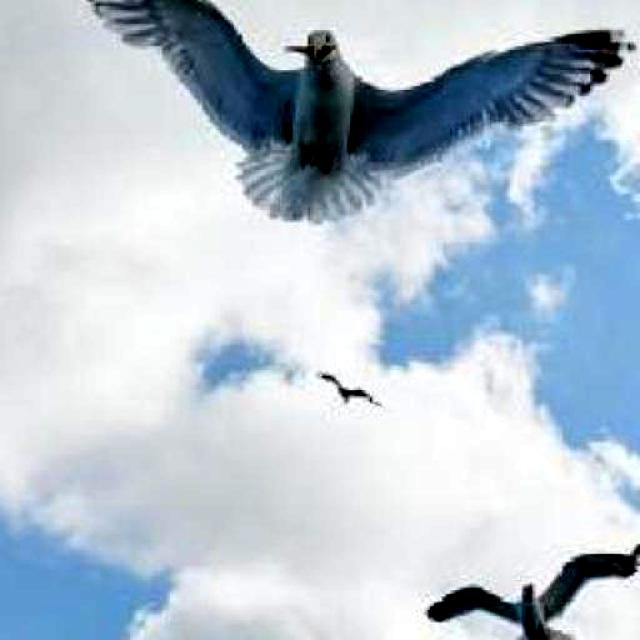airplane: (52, 0, 639, 225), (424, 555, 640, 640), (318, 375, 385, 409), (596, 542, 640, 571)
